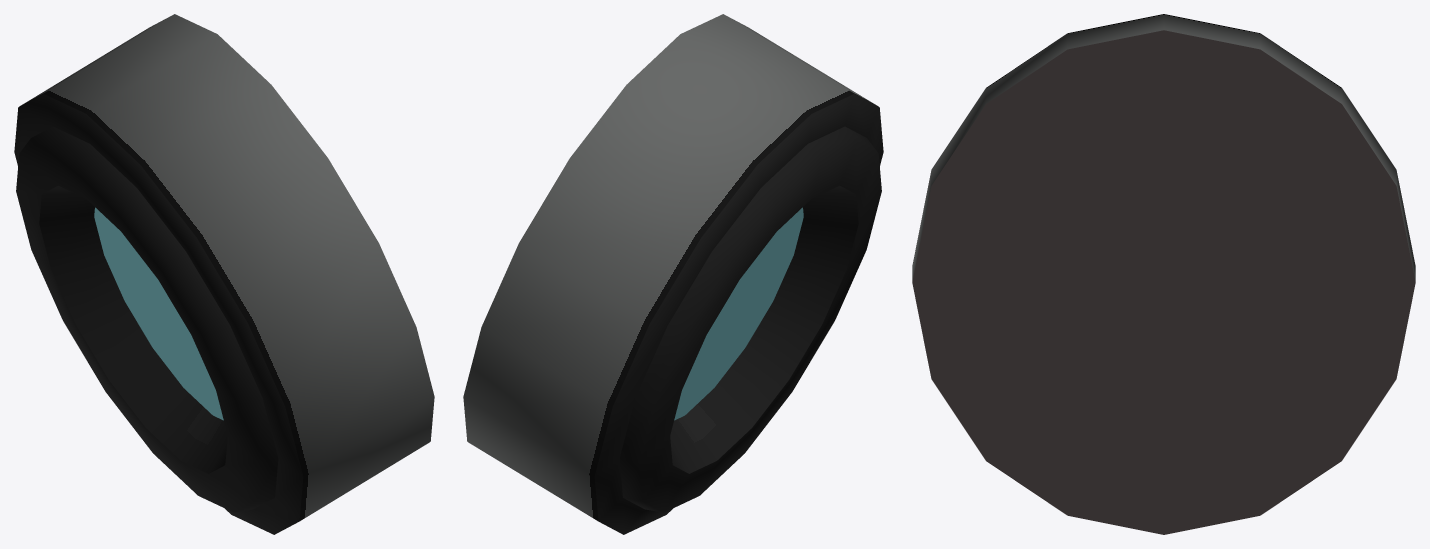
Rendered from RuedaAdelante.glb.
The picture shows the model from 3 angles, left to right: view 1: azimuth 30°, elevation 25°; view 2: azimuth 150°, elevation 25°; view 3: azimuth 270°, elevation 25°; orthographic projection.
Parts seen in each view (by area): view 1: Rueda_Front_Der; view 2: Rueda_Front_Der; view 3: Rueda_Front_Der.
Boxes of the visible parts, x1,y1,x2,y2 form: Rueda_Front_Der: (14,14,434,534); Rueda_Front_Der: (463,14,883,534); Rueda_Front_Der: (912,14,1415,534).
Bounding box in the file's own units: 0.3525 × 0.5697 × 0.5394.
1 material, 1 textured.
